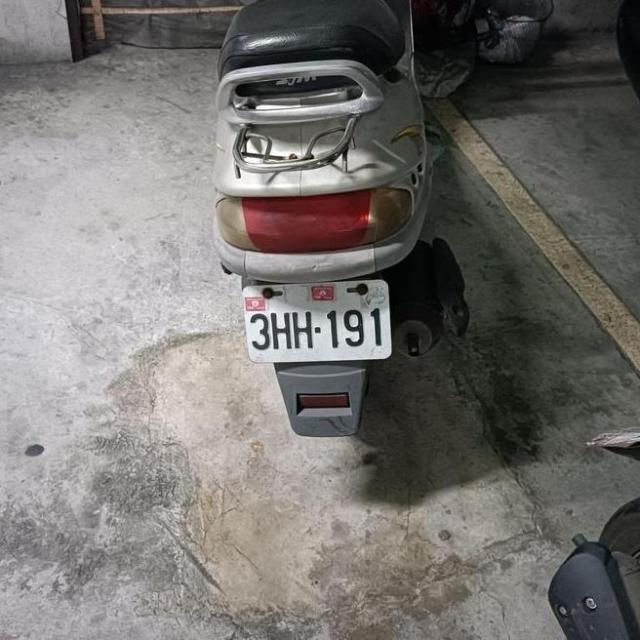W: (240, 272, 395, 368)
